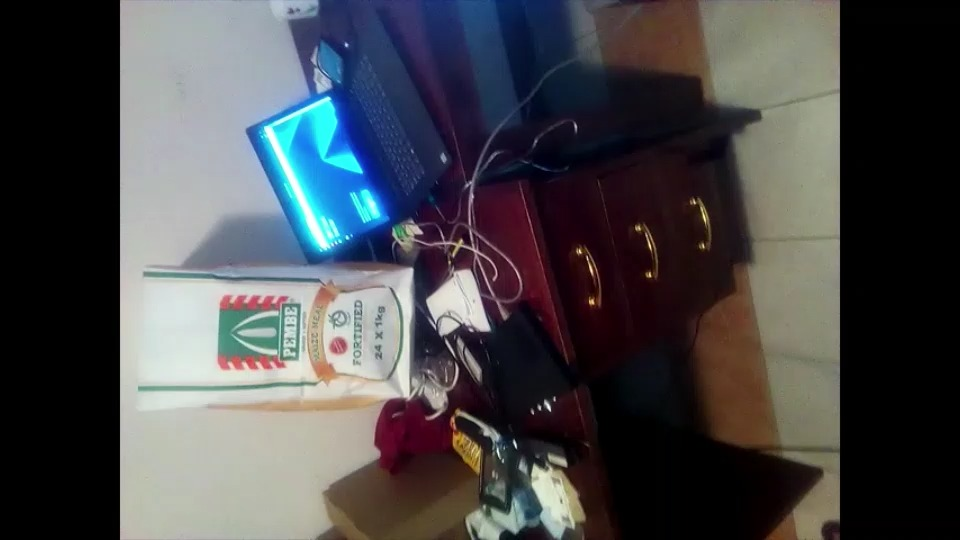maize_flour_green_label: (136, 268, 416, 399)
